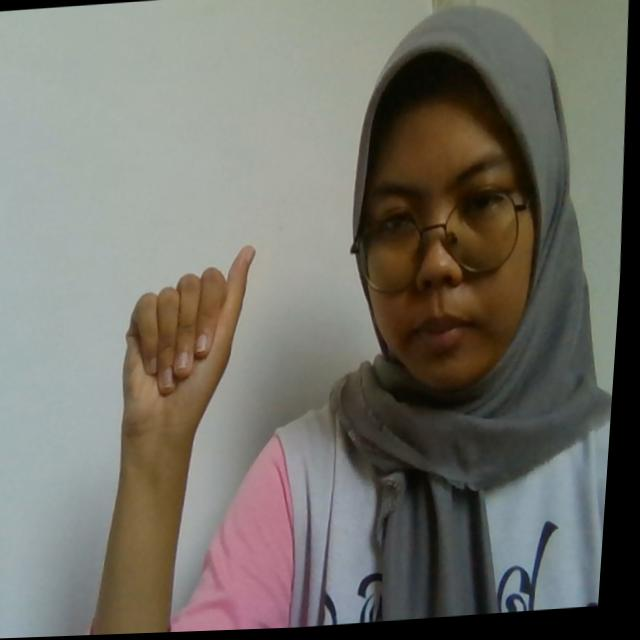A: (120, 245, 268, 436)
